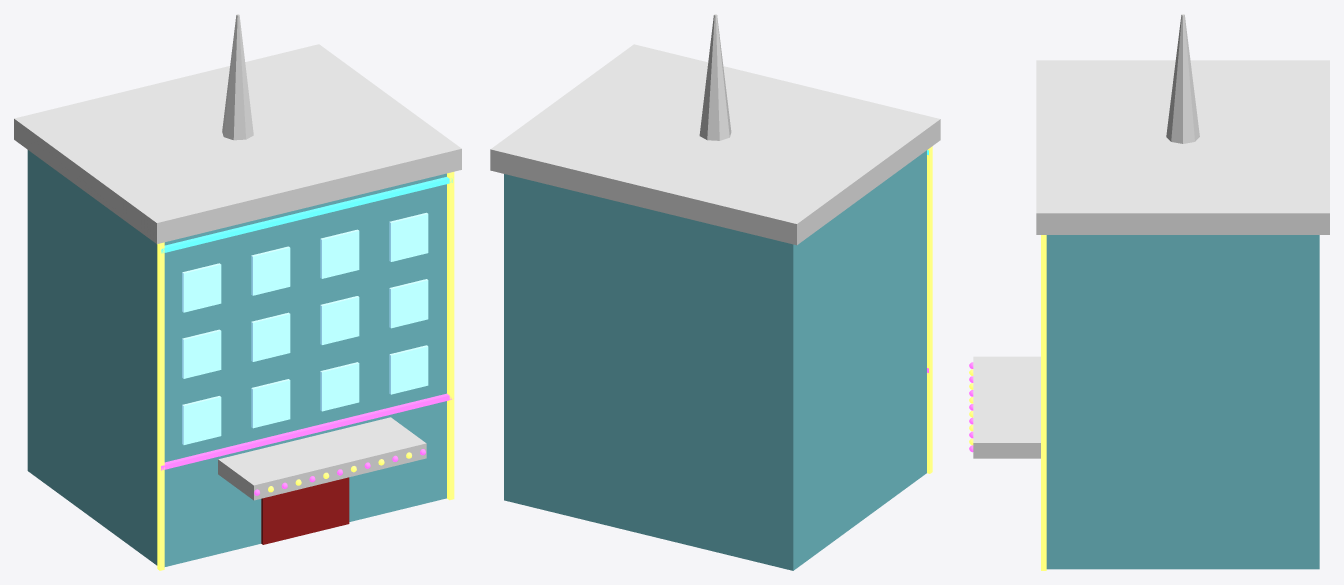
The model's file is journey_casino.glb.
3 views of the same model, side by side, from view 1: azimuth 30°, elevation 25°; view 2: azimuth 150°, elevation 25°; view 3: azimuth 270°, elevation 25° (orthographic). The views are drawn at different scales.
Visible parts, largest first — view 1: Casino_body; view 2: Casino_body; view 3: Casino_body.
Boxes of the visible parts, box(x1,y1,x2,y2) form: Casino_body: box(14, 14, 461, 570); Casino_body: box(490, 14, 940, 570); Casino_body: box(969, 14, 1329, 570).
Size of the model in its own units: 10.6 by 15.6 by 10.57.
